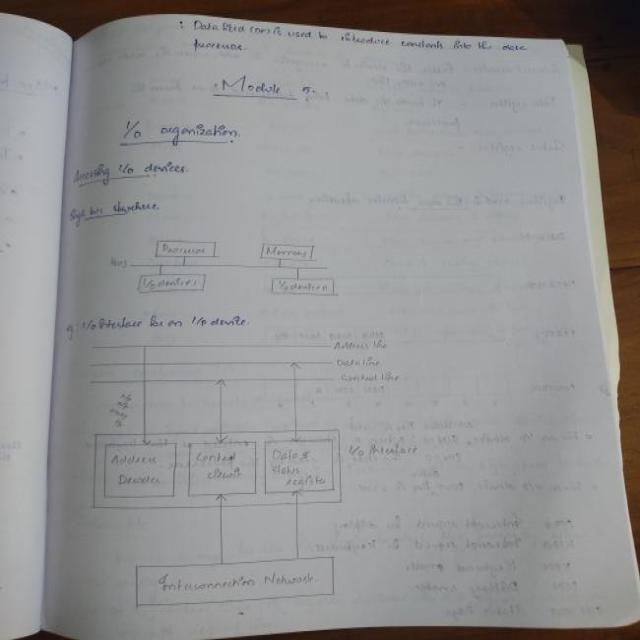Figure Detection - v3 Dataset Version2: (76, 333, 439, 615), (100, 226, 370, 306)
